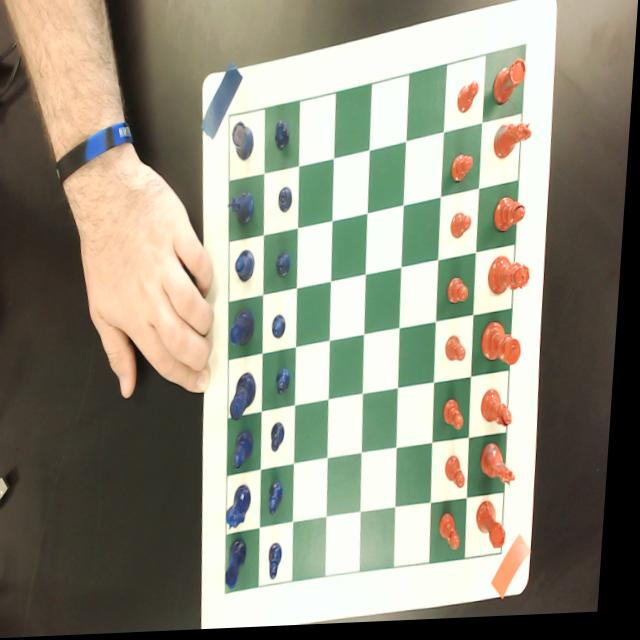B: (239, 433, 261, 471), (237, 252, 259, 285)
K: (235, 374, 263, 425)
N: (233, 488, 259, 534), (230, 192, 258, 229)
P: (274, 545, 292, 584), (276, 119, 294, 155), (274, 484, 291, 519), (280, 187, 297, 218), (279, 253, 296, 282), (276, 426, 292, 456), (280, 370, 297, 398), (275, 316, 292, 343)
Q: (235, 311, 261, 349)
R: (232, 540, 256, 592), (232, 124, 258, 164)
b: (486, 393, 520, 434), (496, 199, 530, 238)
cb: (231, 50, 527, 596)
k: (485, 325, 528, 372)
n: (485, 445, 526, 495), (494, 126, 534, 165)
p: (445, 516, 469, 556), (450, 459, 474, 494), (458, 84, 480, 119), (448, 403, 471, 436), (450, 280, 474, 310), (453, 157, 476, 187), (449, 338, 472, 366), (453, 217, 475, 244)
q: (491, 259, 535, 301)
r: (493, 62, 529, 112), (481, 504, 515, 555)
